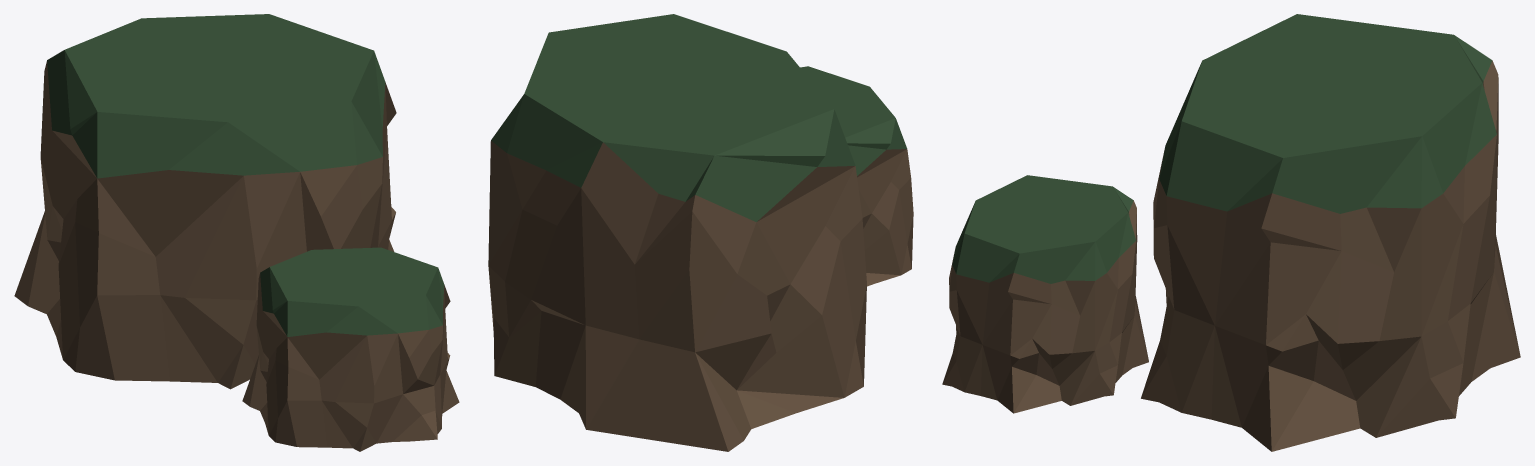
File: Mount2.fbx
The picture shows the model from 3 angles, left to right: view 1: azimuth 30°, elevation 25°; view 2: azimuth 150°, elevation 25°; view 3: azimuth 270°, elevation 25°; orthographic projection. The views are drawn at different scales.
Visible parts, largest first — view 1: polySurface3, polySurface4; view 2: polySurface3, polySurface4; view 3: polySurface3, polySurface4.
Boxes of the visible parts, box(x1,y1,x2,y2) form: polySurface3: box(14, 14, 396, 389); polySurface4: box(242, 247, 459, 451); polySurface3: box(488, 14, 866, 451); polySurface4: box(800, 66, 913, 286); polySurface3: box(1141, 14, 1520, 451); polySurface4: box(942, 175, 1148, 413).
Size of the model in its own units: 427 by 313 by 595.
